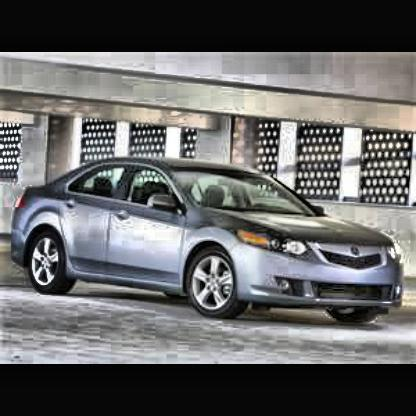Acura TSX Sedan 2012: (11, 155, 406, 329)
